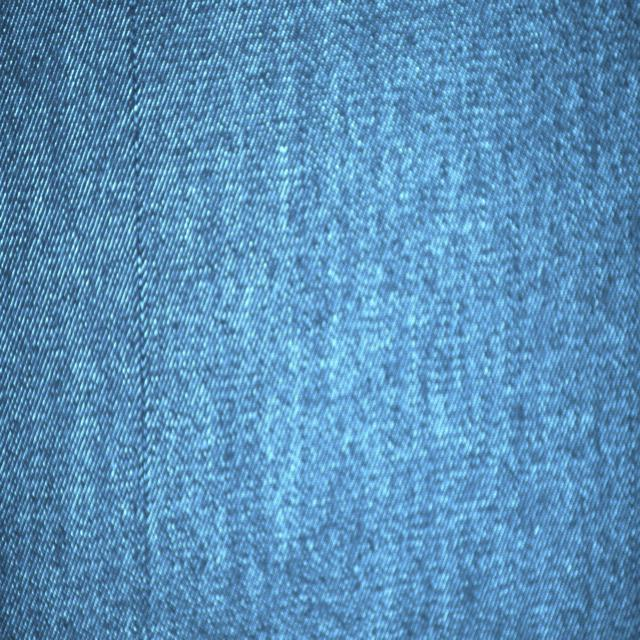Line: (125, 0, 154, 640)
